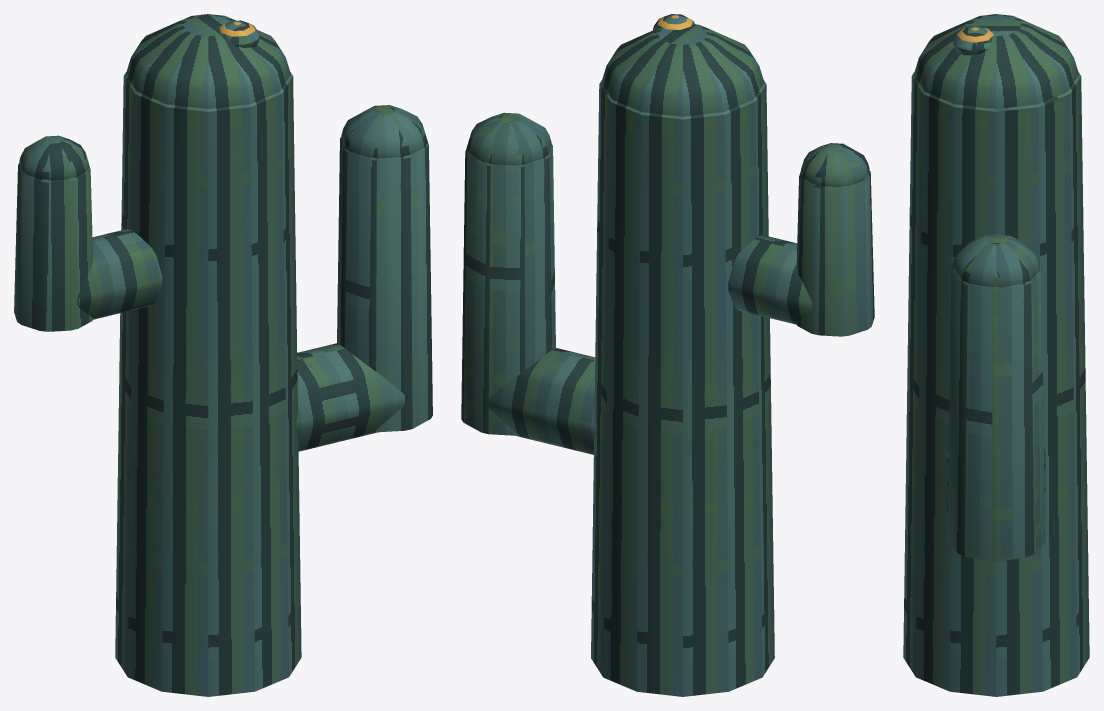
Rendered from spec_cactus_3.glb.
The picture shows the model from 3 angles, left to right: view 1: azimuth 30°, elevation 25°; view 2: azimuth 150°, elevation 25°; view 3: azimuth 270°, elevation 25°; orthographic projection.
Parts seen in each view (by area): view 1: spec_cactus_3; view 2: spec_cactus_3; view 3: spec_cactus_3.
Boxes of the visible parts, bbox=[...] form: spec_cactus_3: bbox=[14, 14, 432, 696]; spec_cactus_3: bbox=[461, 14, 874, 696]; spec_cactus_3: bbox=[903, 14, 1089, 696].
Size of the model in its own units: 1.11 by 1.66 by 0.44.
2 materials, 2 textured.
